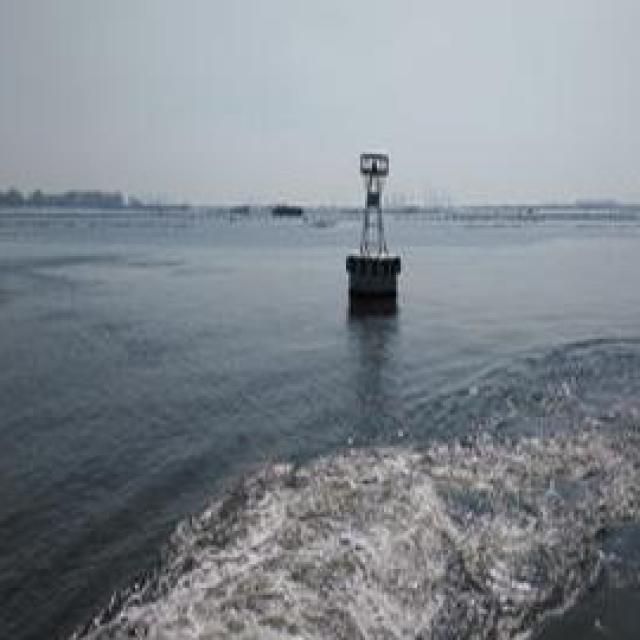buoy: (341, 145, 412, 297)
